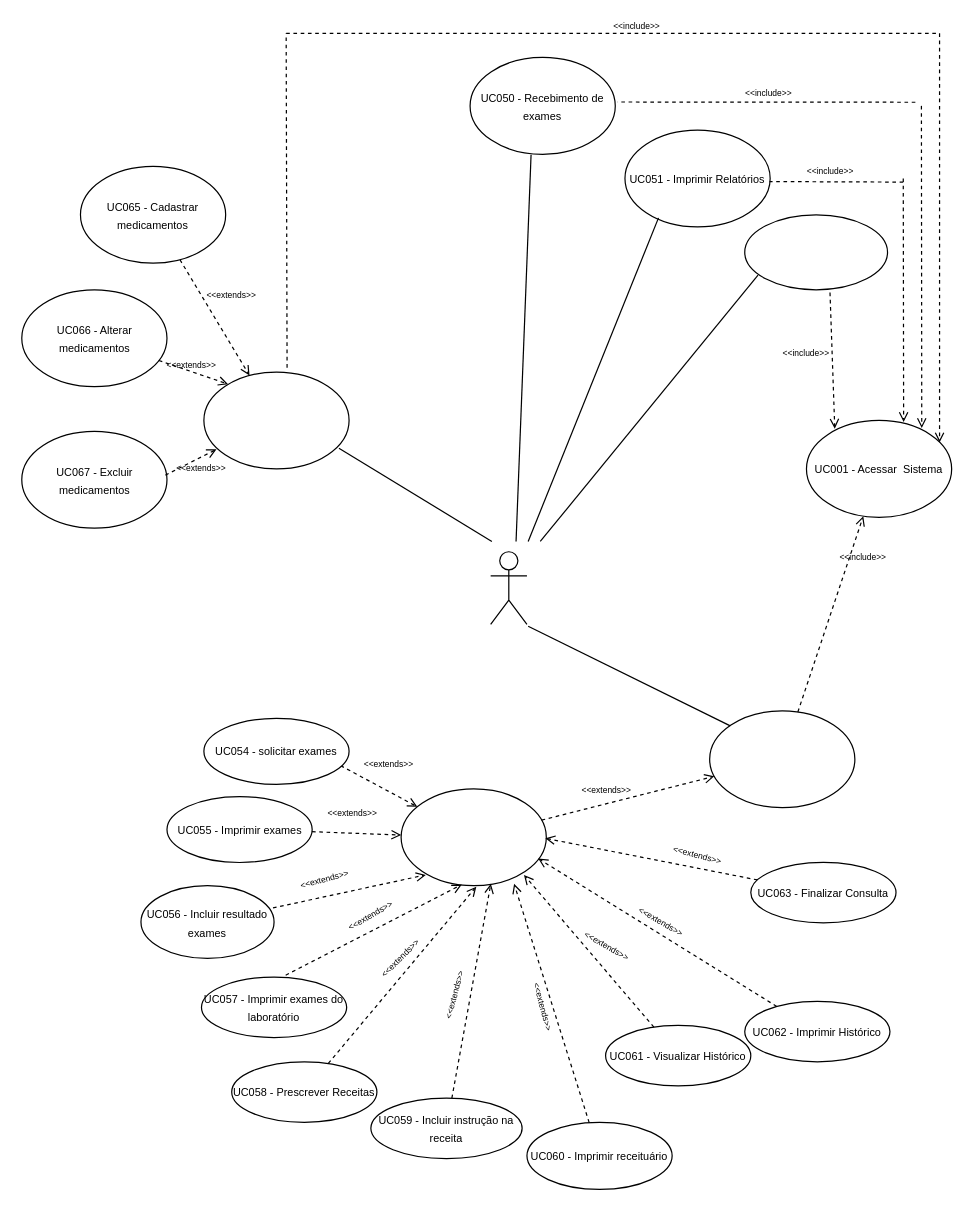
The diagram is 973 pixels wide and 1210 high, and some of its shapes have lost their labels. Here are the shapes that lost their labels. From the top down, the centre of each, then its label:
point 816,252: UC049 - Imprimir segunda via receitas
point 276,420: UC064 - Visualizar medicamentos
point 508,587: Médico
point 781,759: UC052 - Visualizar Iniciar consulta
point 473,837: UC053 - Iniciar Consulta
